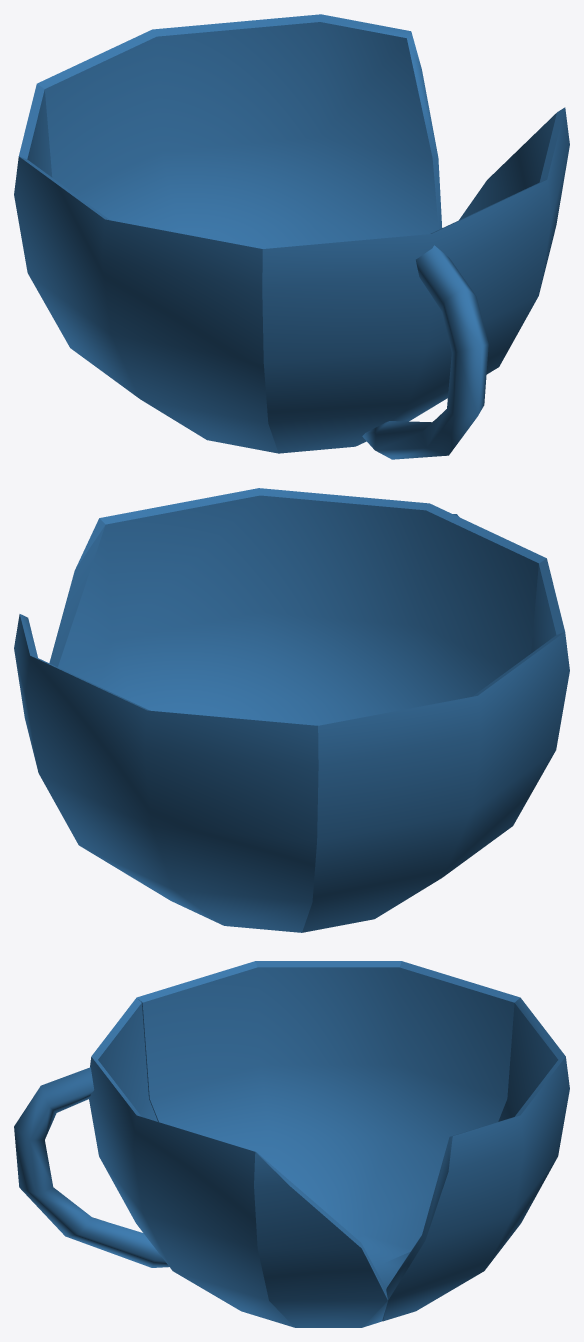
Rendered from Taza01Roto.fbx.
3 views of the same model, one above another, from view 1: azimuth 30°, elevation 25°; view 2: azimuth 150°, elevation 25°; view 3: azimuth 270°, elevation 25° (orthographic). The views are drawn at different scales.
Visible parts, largest first — view 1: polySurface2617, polySurface2615, polySurface2613, polySurface2612; view 2: polySurface2615, polySurface2617, polySurface2613; view 3: polySurface2613, polySurface2615, polySurface2617, polySurface2612.
Boxes of the visible parts, left/top/right/bottom form: polySurface2617: left=37, top=14, right=442, bottom=248; polySurface2615: left=262, top=107, right=569, bottom=453; polySurface2613: left=14, top=84, right=278, bottom=453; polySurface2612: left=362, top=245, right=488, bottom=459; polySurface2615: left=49, top=488, right=546, bottom=725; polySurface2617: left=14, top=614, right=318, bottom=932; polySurface2613: left=302, top=558, right=569, bottom=932; polySurface2613: left=137, top=961, right=520, bottom=1265; polySurface2615: left=89, top=997, right=387, bottom=1327; polySurface2617: left=373, top=998, right=569, bottom=1321; polySurface2612: left=14, top=1067, right=168, bottom=1267.
Bounding box in the file's own units: 0.2036 × 0.1116 × 0.2465.
